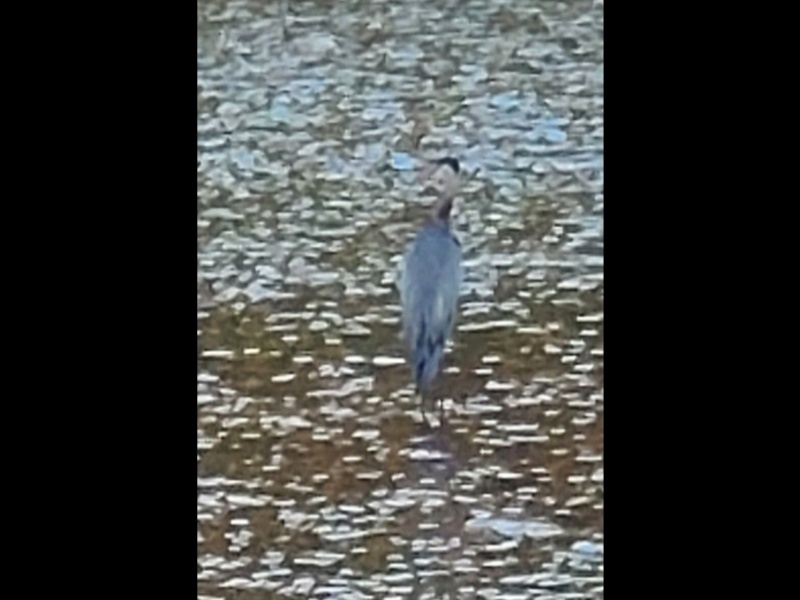heron: (395, 158, 467, 429)
